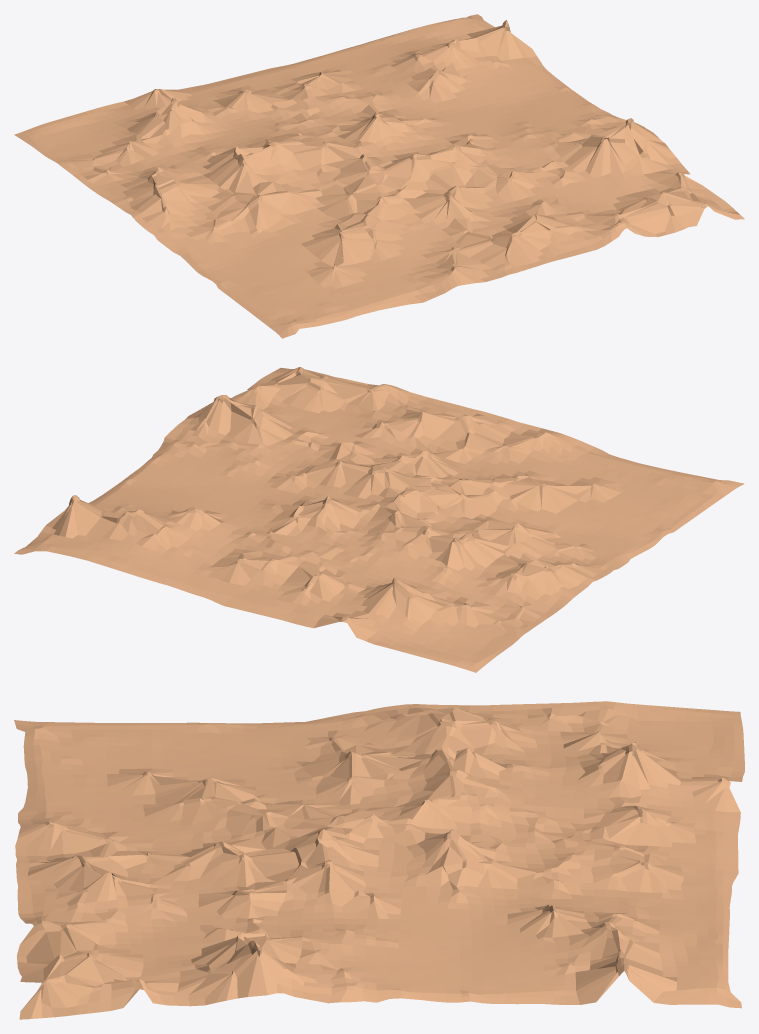
Rendered from intersectable_landscape_model.glb.
3 renders of one model, top to bottom at view 1: azimuth 30°, elevation 25°; view 2: azimuth 150°, elevation 25°; view 3: azimuth 270°, elevation 25°, orthographic. The views are drawn at different scales.
Visible parts, largest first — view 1: Plane; view 2: Plane; view 3: Plane.
Part boxes in pixels (bbox=[...]): Plane: bbox=[14, 14, 744, 338]; Plane: bbox=[14, 367, 744, 672]; Plane: bbox=[14, 701, 744, 1019].
Bounding box in the file's own units: 1000 × 100 × 1000.
